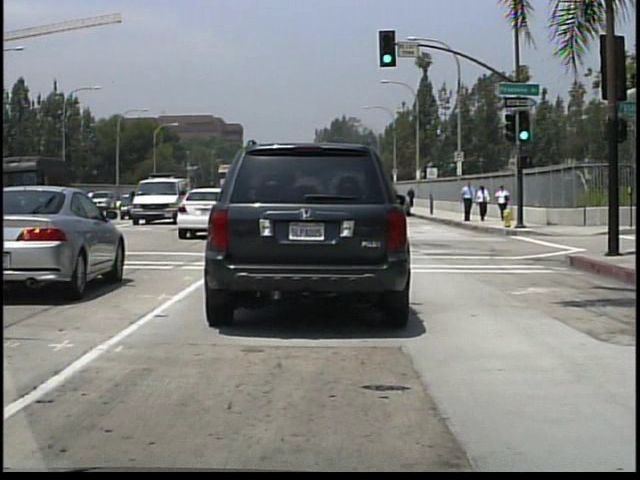person: (459, 180, 475, 224), (476, 185, 491, 223), (496, 184, 510, 211), (409, 187, 417, 209)
